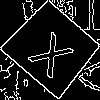X: (27, 23, 82, 80)
